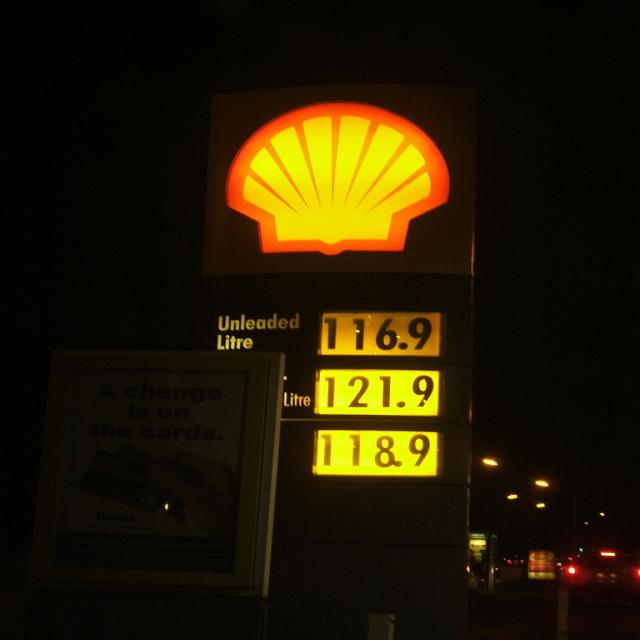shell: (224, 98, 453, 259)
